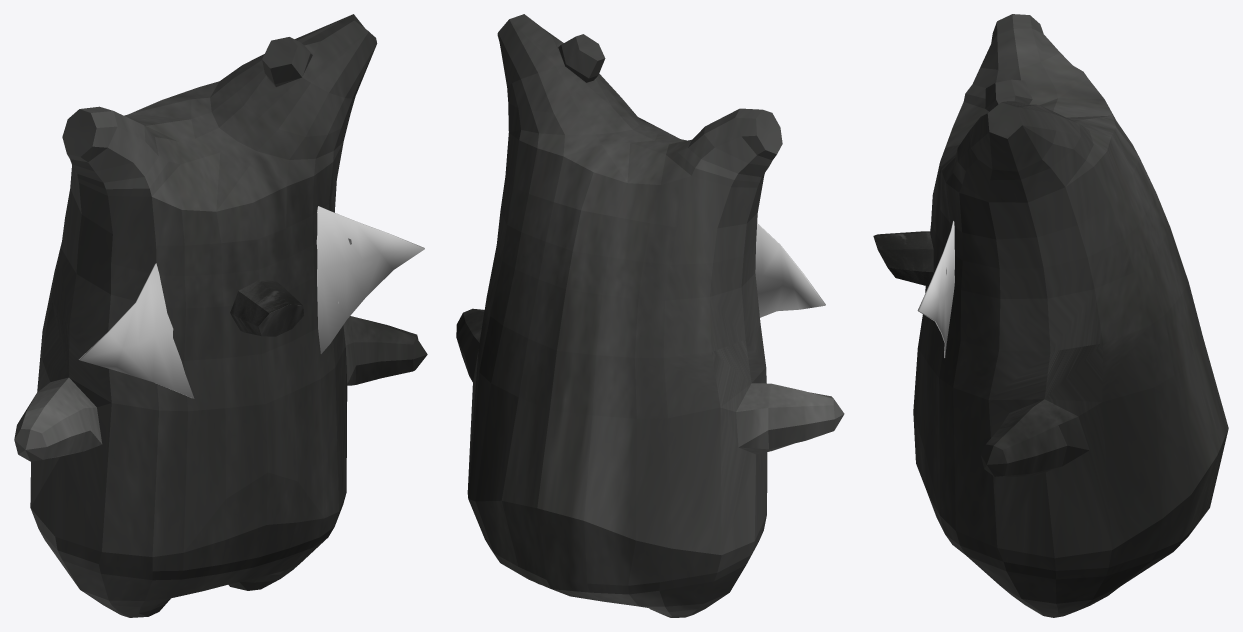
The model's file is frame_0016.obj.
3 views of the same model, side by side, from view 1: azimuth 30°, elevation 25°; view 2: azimuth 150°, elevation 25°; view 3: azimuth 270°, elevation 25° (orthographic). The views are drawn at different scales.
Visible parts, largest first — view 1: korok, leaf, nose; view 2: korok, leaf; view 3: korok, nose, leaf.
Boxes of the visible parts, x1,y1,x2,y2 form: korok: [14, 14, 427, 617]; leaf: [79, 206, 424, 398]; nose: [230, 280, 303, 336]; korok: [456, 14, 844, 617]; leaf: [755, 223, 825, 317]; korok: [913, 14, 1228, 617]; nose: [873, 231, 933, 285]; leaf: [917, 221, 954, 357].
Size of the model in its own units: 1.65 by 2.23 by 1.31.
